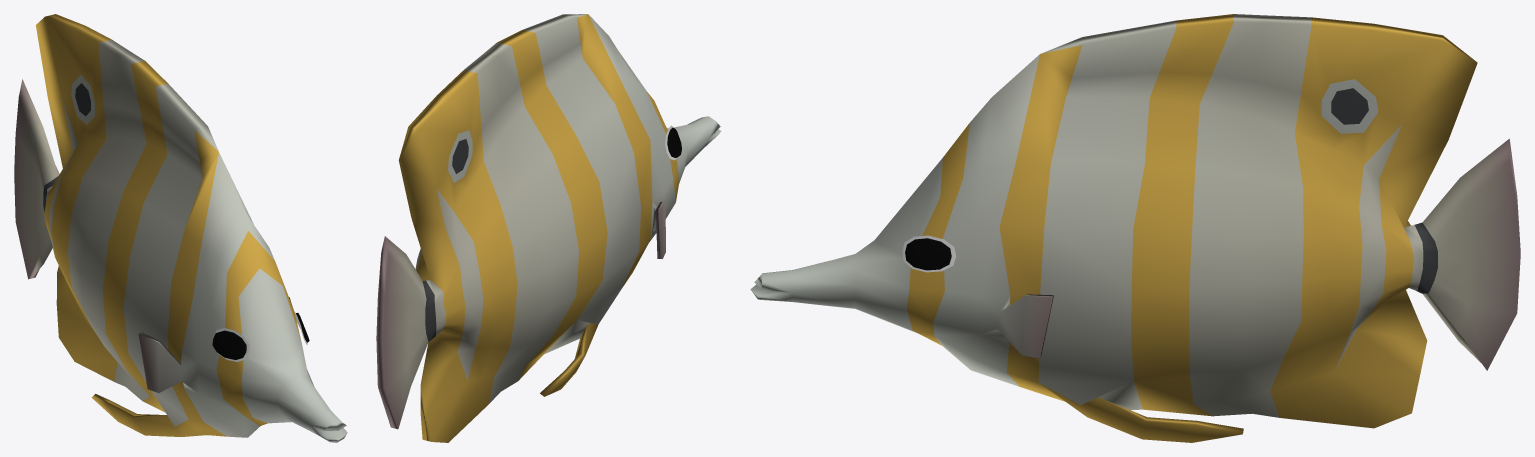
Rendered from underwater-fish-butterflyfish_v3.fbx.
3 views of the same model, side by side, from view 1: azimuth 30°, elevation 25°; view 2: azimuth 150°, elevation 25°; view 3: azimuth 270°, elevation 25° (orthographic). The views are drawn at different scales.
Visible parts, largest first — view 1: Butterflyfish_v3; view 2: Butterflyfish_v3; view 3: Butterflyfish_v3.
Boxes of the visible parts, x1=… form: Butterflyfish_v3: x1=14, y1=14, x2=347, y2=442; Butterflyfish_v3: x1=376, y1=14, x2=721, y2=442; Butterflyfish_v3: x1=750, y1=14, x2=1520, y2=442.
Bounding box in the file's own units: 0.0541 × 0.1167 × 0.2.
